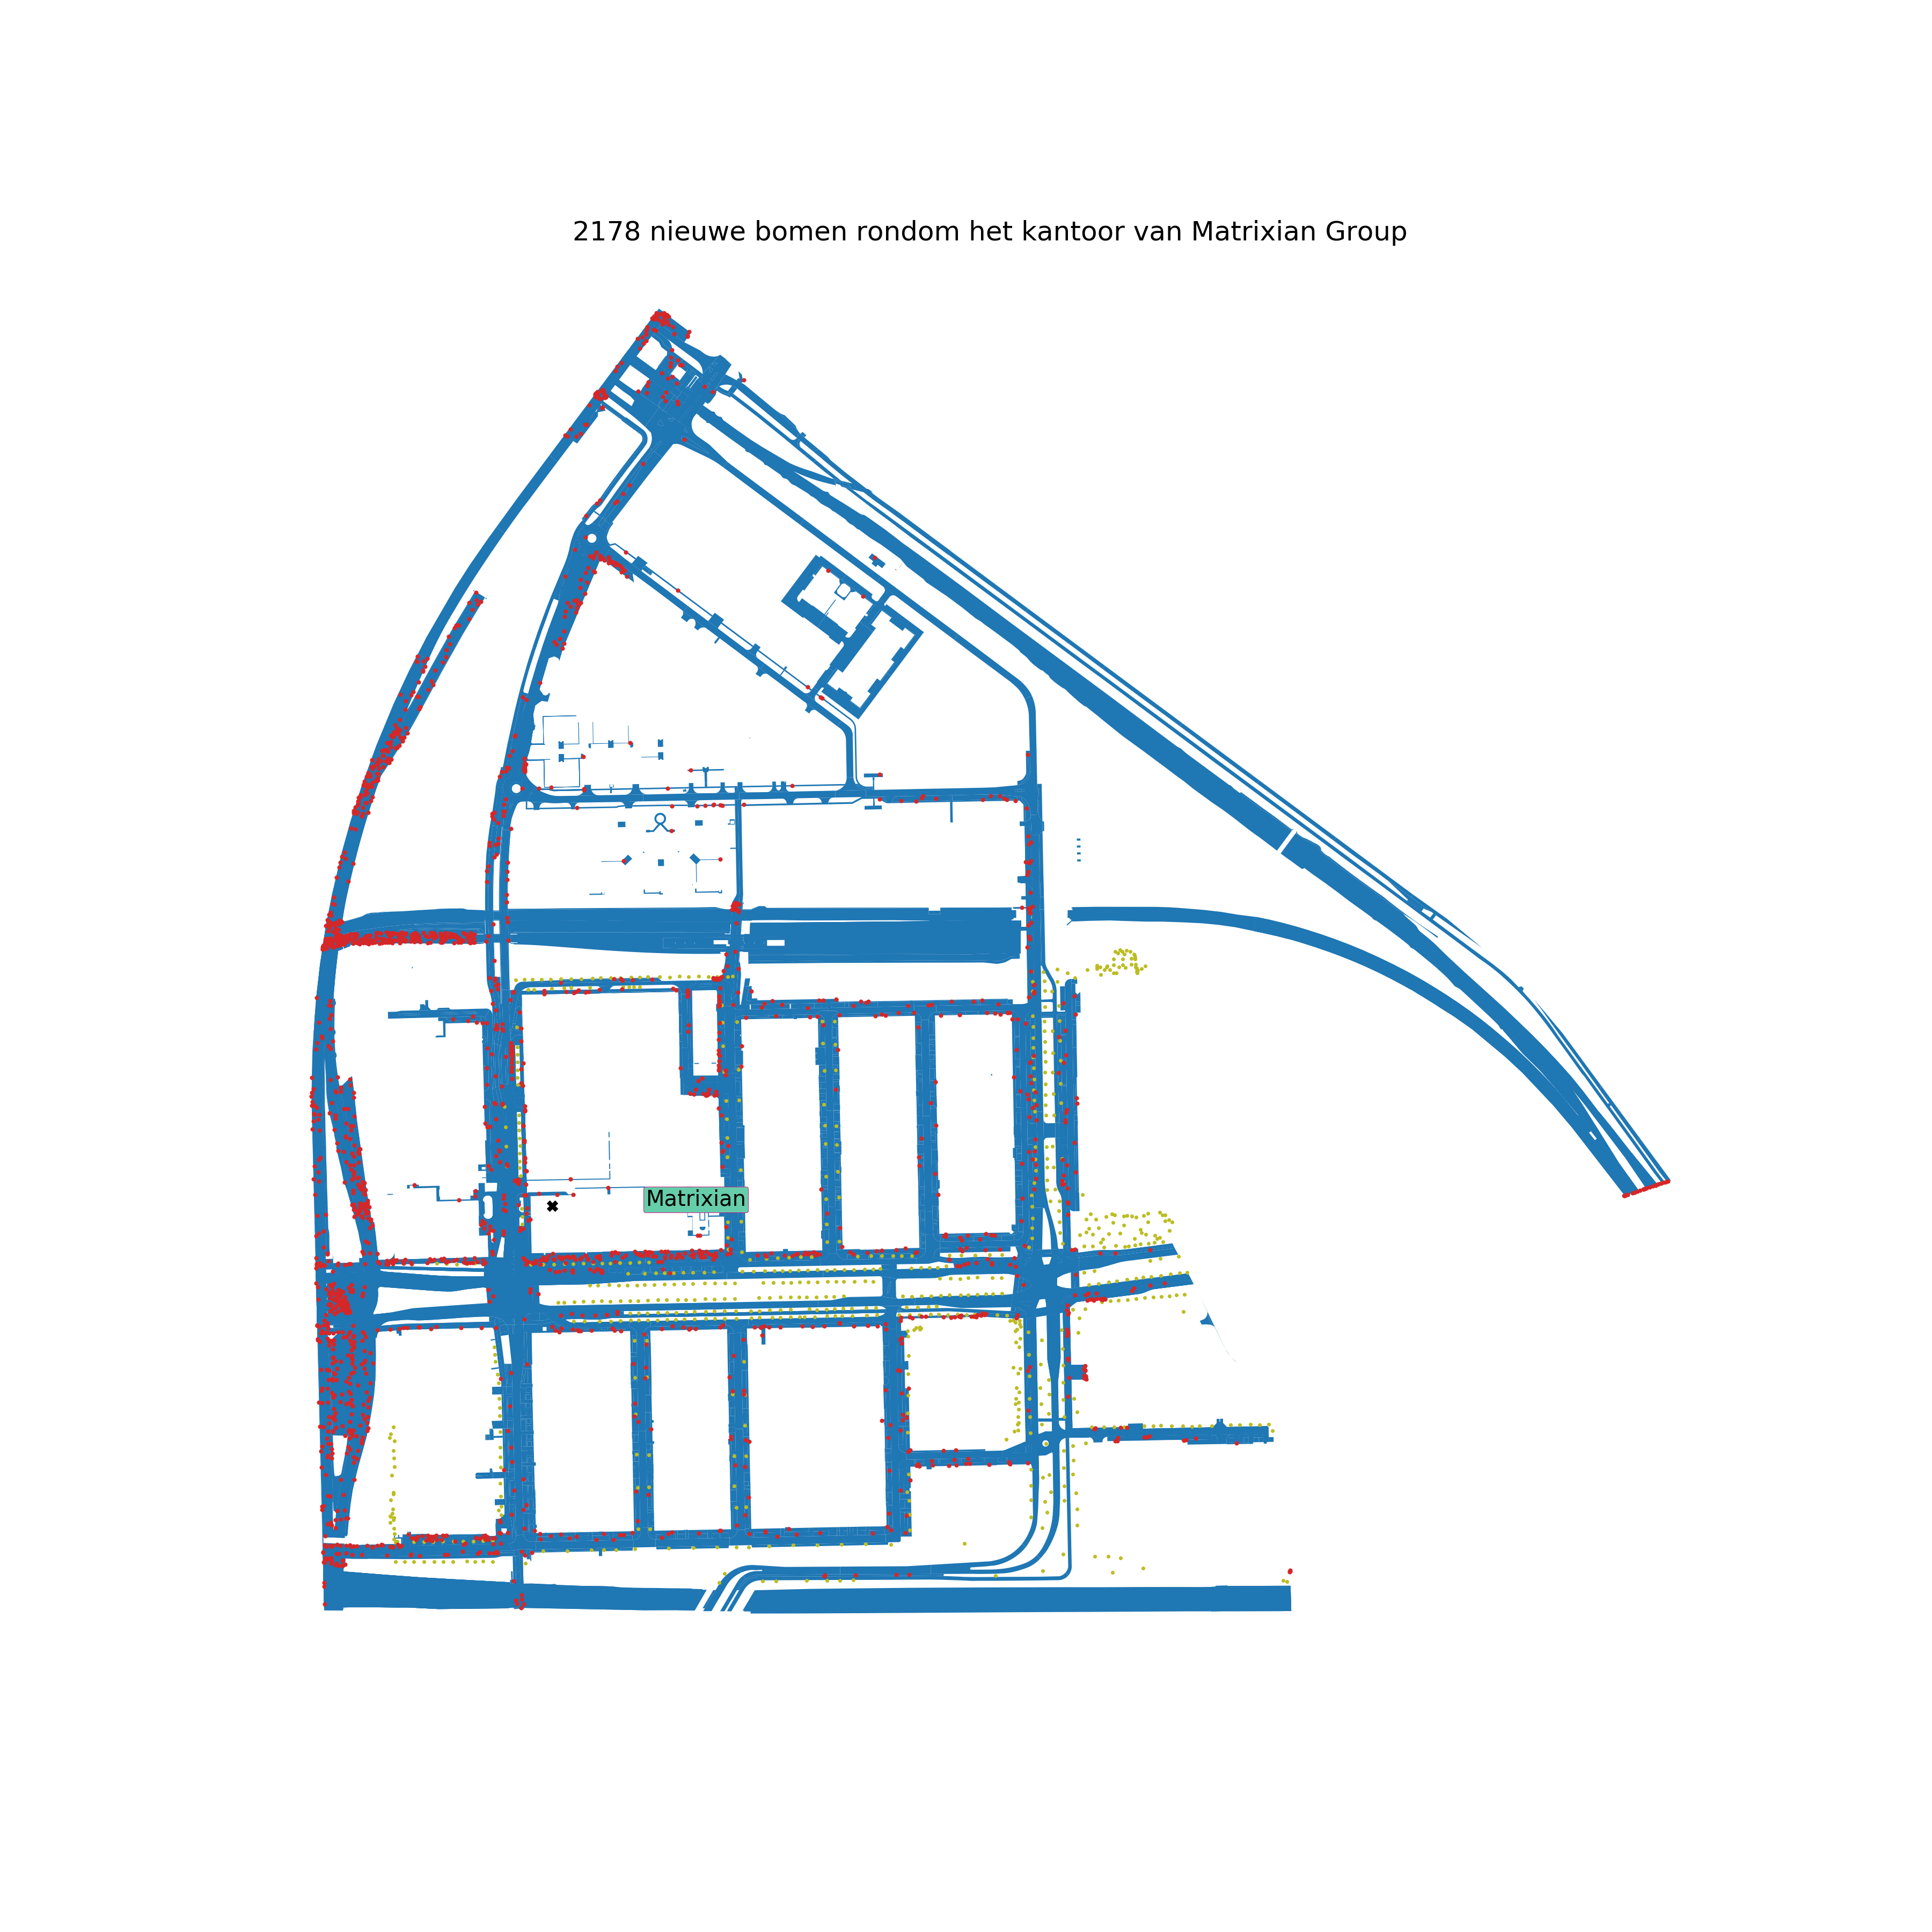

The page's visual inventory and layout, read from the dashboard file:
{"tool":"tableau","page":{"name":"Dashboard 1","canvas":[1000,1000],"units":"permille","ordinal":0},"visuals":[{"type":"worksheet","title":"pt","mark":"Line","rows":["0"],"cols":["tiny_forest_area"],"box":[10,14.6,980,970.9]},{"type":"legend","title":"pt","param":"[federated.0cbgzb50fwx32t0zqqtpc04w2hoo].[none:Calculation_1052153505004306432:n","box":[810.5,71,139.7,306]}]}

Visuals, with their boxes on the dashboard's canvas, which has no fixed pixel size, in thousandths of its width and height (x1, y1, x2, y2). These are canvas units, not pixel positions in the 1932x1932 screenshot, which may show the page scaled, cropped or inside an application window:
"pt" worksheet (Line marks): (10,15,990,986)
"pt" legend: (810,71,950,377)
